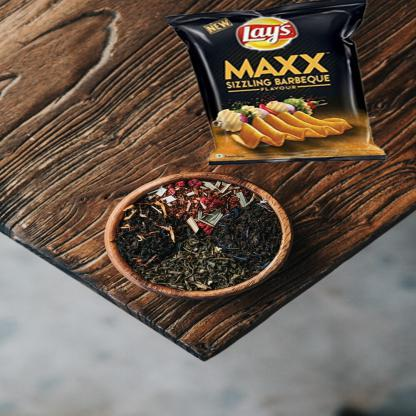maxx_sizzling_barbeque: (168, 16, 383, 164)
